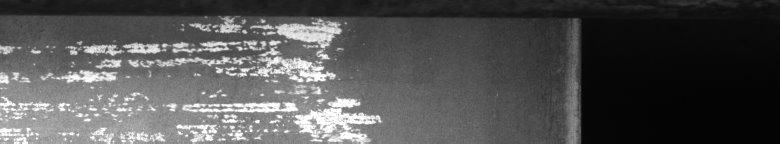kb: (4, 9, 382, 136)
